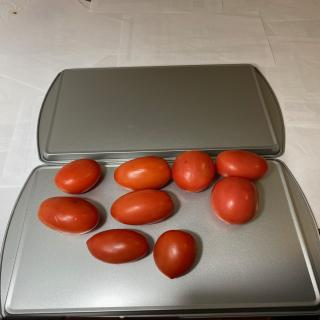Chilli: (37, 149, 269, 279)
Tomato: (37, 196, 100, 235), (210, 176, 260, 225), (110, 190, 174, 226), (153, 230, 198, 279), (86, 229, 148, 264), (114, 156, 172, 190), (172, 150, 215, 192), (54, 158, 101, 194), (215, 150, 269, 180)
